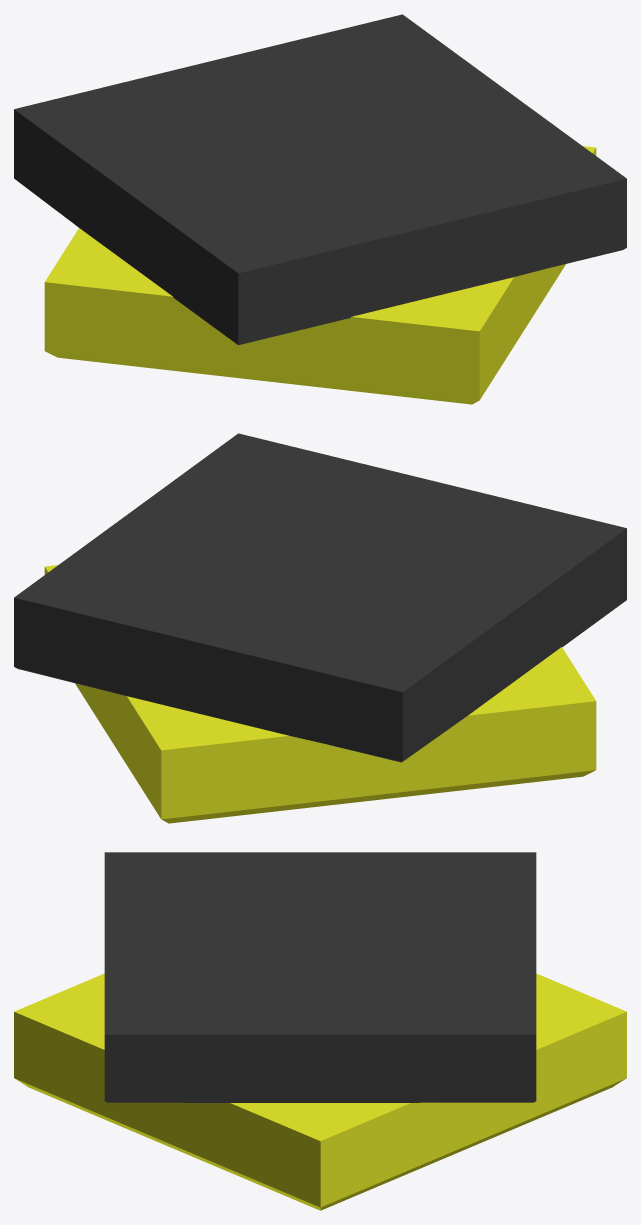
File: svetloStrop.glb
3 views of the same model, one above another, from view 1: azimuth 30°, elevation 25°; view 2: azimuth 150°, elevation 25°; view 3: azimuth 270°, elevation 25° (orthographic). The views are drawn at different scales.
Visible parts, largest first — view 1: Cube; view 2: Cube; view 3: Cube.
Part boxes in pixels (x1,y1,x2,y2): Cube: (14,14,626,404); Cube: (14,433,626,823); Cube: (14,852,626,1210).
Bounding box in the file's own units: 1.06 × 0.2756 × 1.06.
